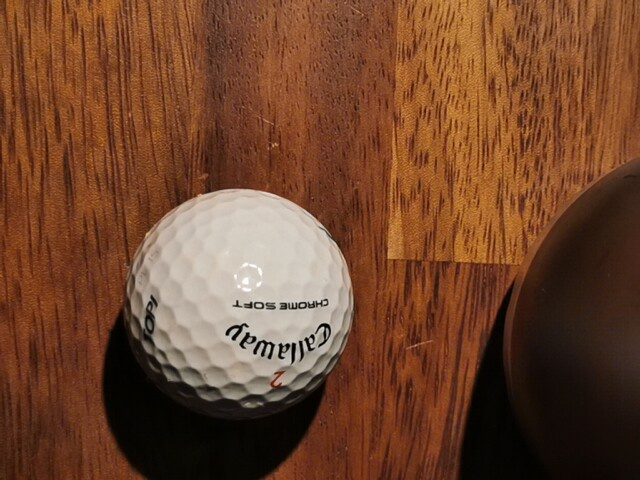Ball: (124, 188, 354, 422)
Callaway: (225, 323, 331, 364)
